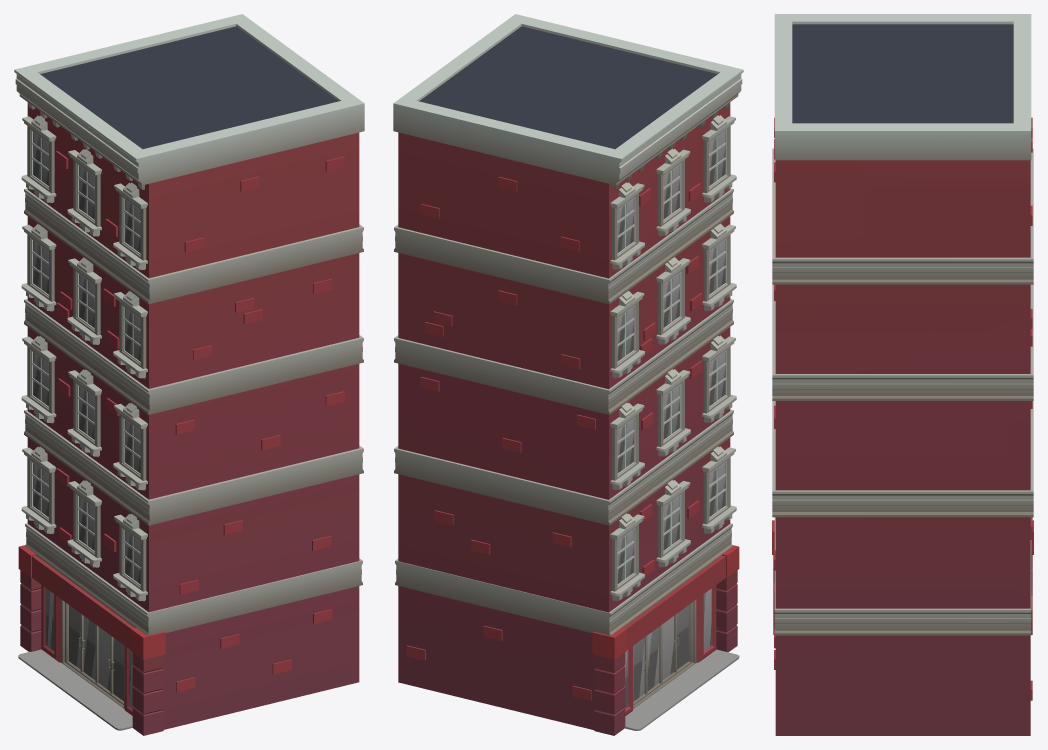
Rendered from Building_21_1_F.fbx.
3 renders of one model, left to right at view 1: azimuth 30°, elevation 25°; view 2: azimuth 150°, elevation 25°; view 3: azimuth 270°, elevation 25°, orthographic. The views are drawn at different scales.
Visible parts, largest first — view 1: Building_21_1_F; view 2: Building_21_1_F; view 3: Building_21_1_F.
Boxes of the visible parts, <box> form: Building_21_1_F: <box>14,14,364,735</box>; Building_21_1_F: <box>393,14,743,735</box>; Building_21_1_F: <box>772,14,1033,735</box>.
Bounding box in the file's own units: 779 × 1825 × 713.
